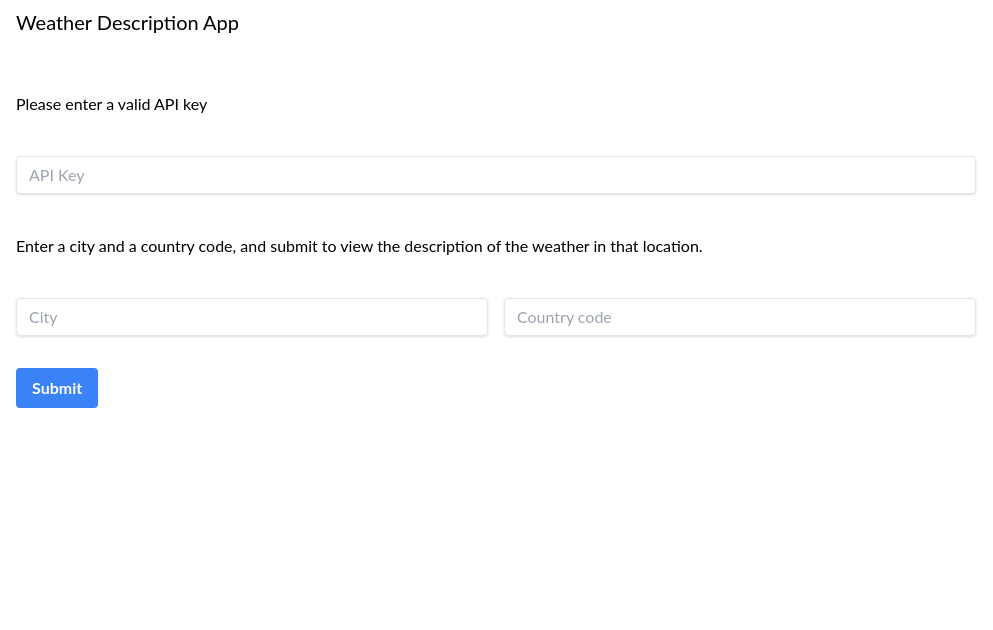
Scenario: Home page unit tests › should display error message when the api key entered is invalid
In the field with placeholder "API Key": (496, 175) 16,156 -> 976,194, type "invalid api key"
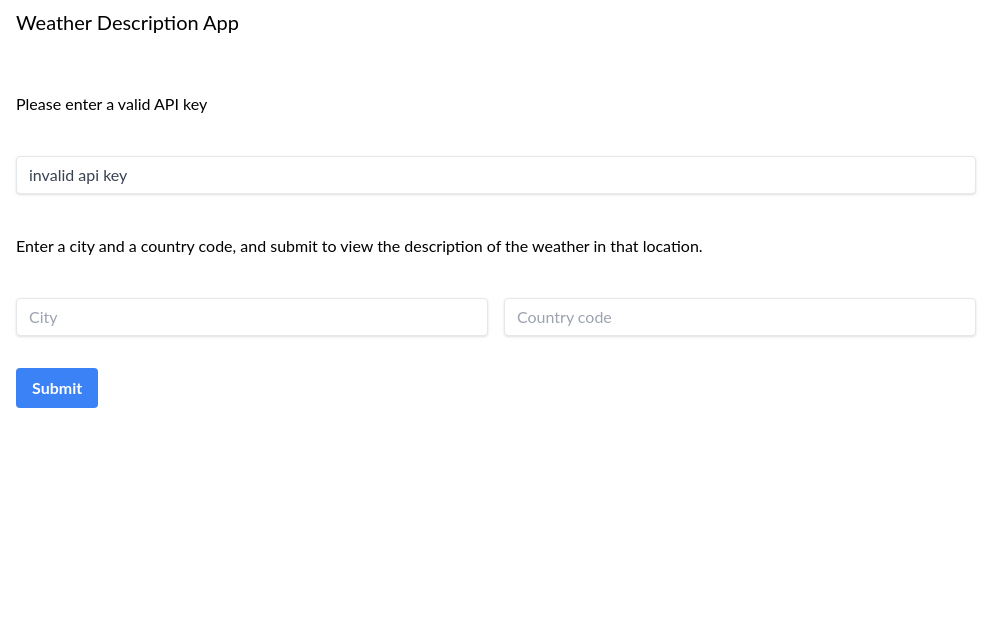
In the field with placeholder "City": (252, 317) 16,298 -> 488,336, type "Melbourne"
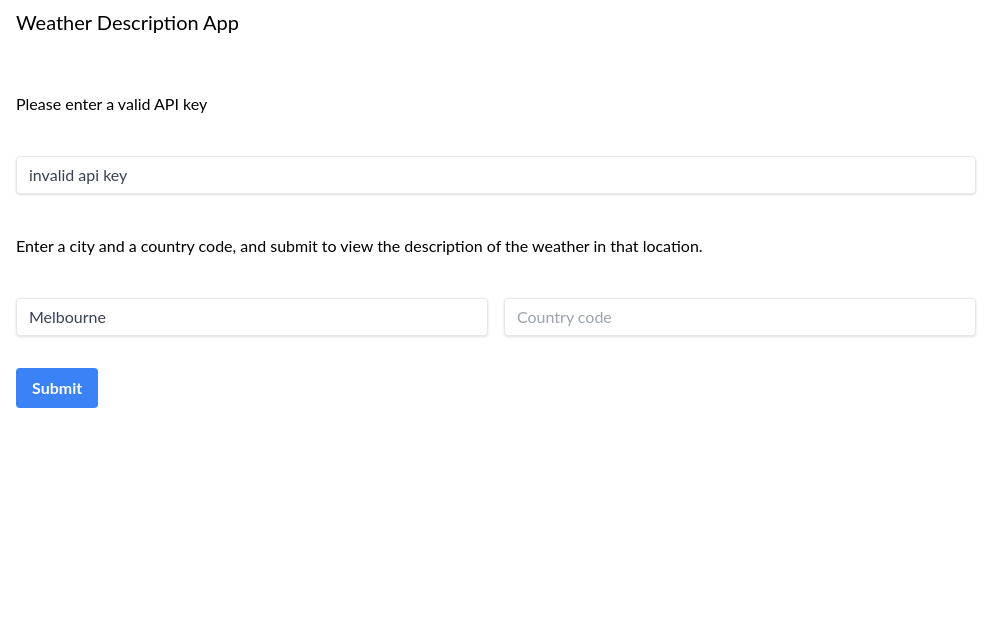
Click the button "Submit": (57, 388) 16,368 -> 98,408
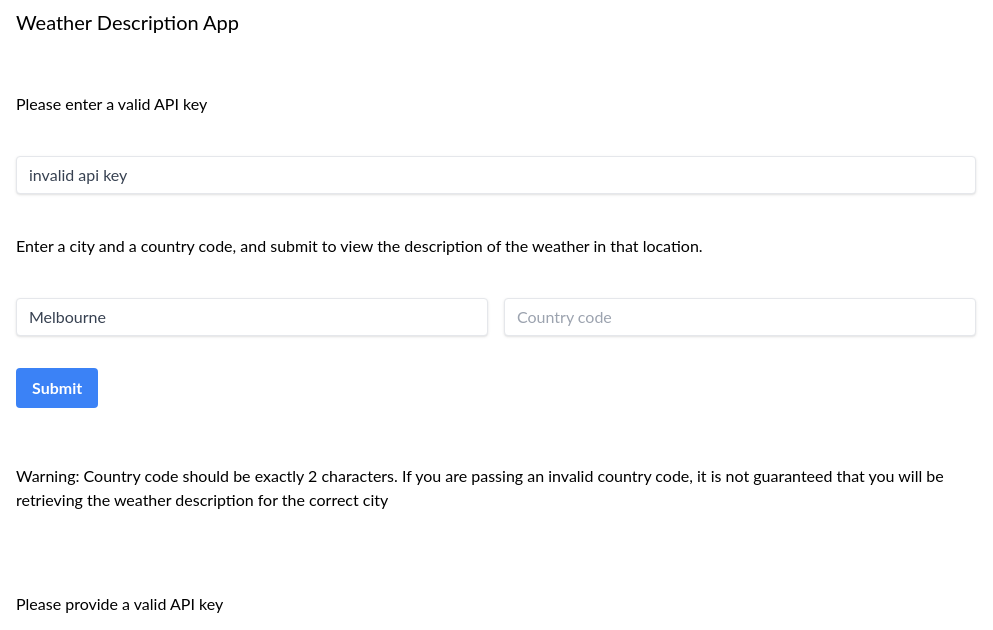
Check: the text "Please provide a valid API key" is shown, box 16,594 -> 223,613
